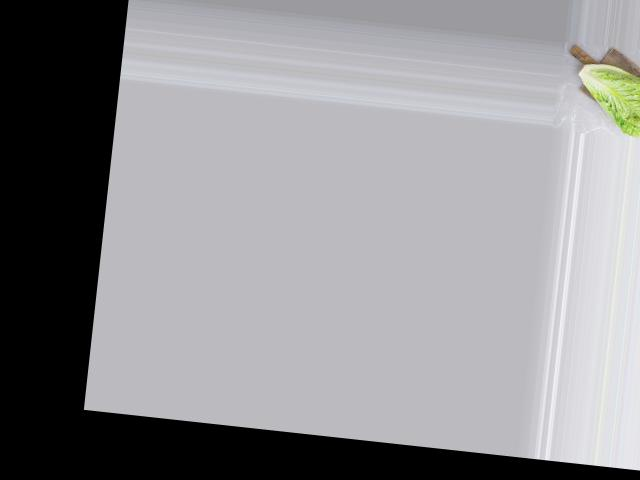lettuce: (568, 50, 640, 139)
